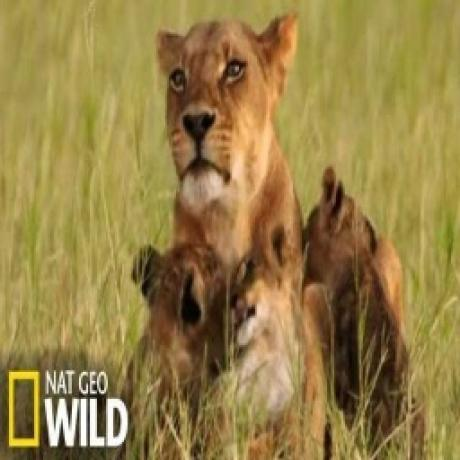Lion: (143, 5, 310, 298), (300, 154, 420, 429), (208, 217, 302, 442), (126, 237, 214, 416)
